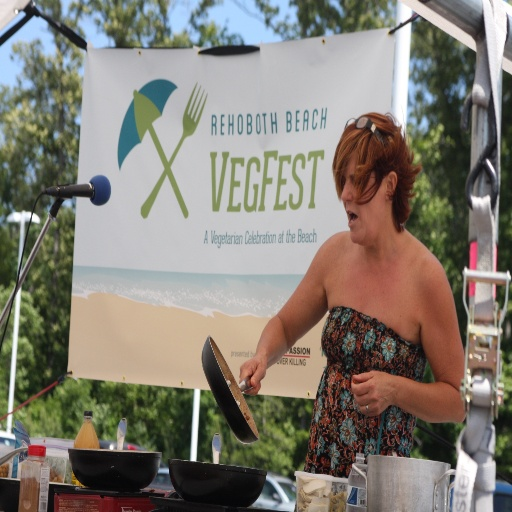hand: (355, 375, 419, 425), (238, 353, 266, 398)
